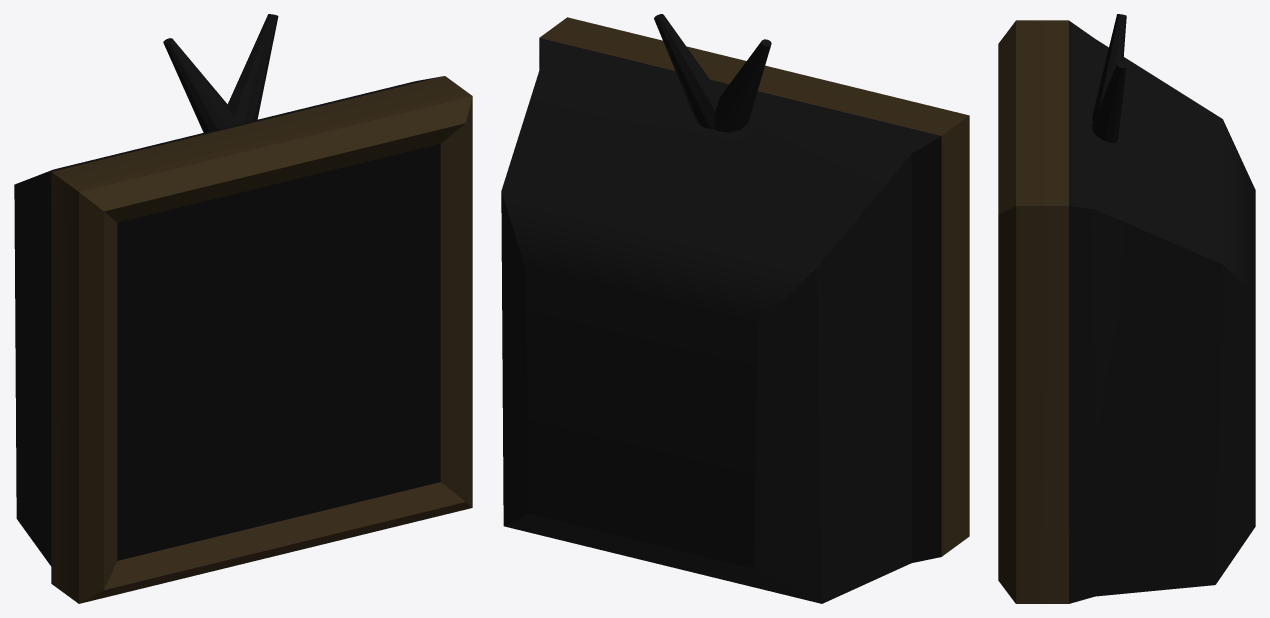
File: TV_Standin.fbx
The picture shows the model from 3 angles, left to right: view 1: azimuth 30°, elevation 25°; view 2: azimuth 150°, elevation 25°; view 3: azimuth 270°, elevation 25°; orthographic projection. The views are drawn at different scales.
Visible parts, largest first — view 1: pCube2; view 2: pCube2; view 3: pCube2.
Part boxes in pixels (<box>): pCube2: <box>14,14,472,603</box>; pCube2: <box>501,14,969,603</box>; pCube2: <box>998,14,1255,603</box>.
Bounding box in the file's own units: 1 × 1.19 × 0.5864.
